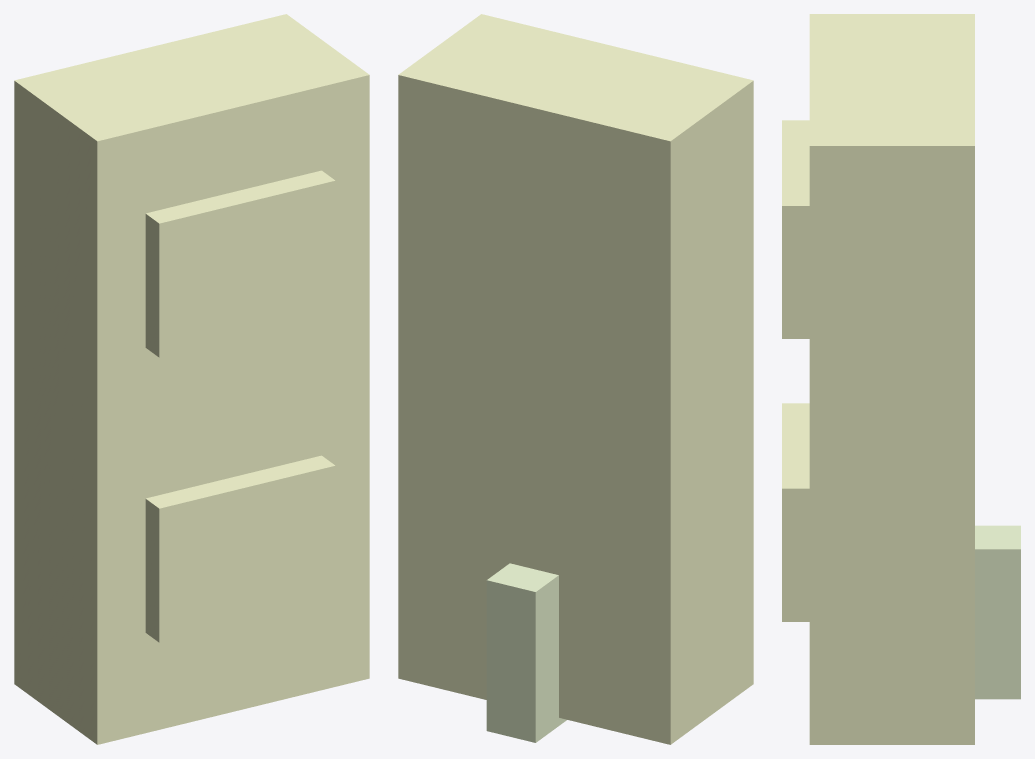
The model's file is signal_bicycle_compact_2_aspect.glb.
3 renders of one model, left to right at view 1: azimuth 30°, elevation 25°; view 2: azimuth 150°, elevation 25°; view 3: azimuth 270°, elevation 25°, orthographic.
Parts seen in each view (by area): view 1: housing, display_bike_red, display_bike_green; view 2: housing, bracket; view 3: housing, bracket, display_bike_red, display_bike_green.
Part boxes in pixels (left/top/right/bottom): housing: left=14, top=14, right=369, bottom=744; display_bike_red: left=145, top=170, right=335, bottom=357; display_bike_green: left=145, top=455, right=335, bottom=642; housing: left=398, top=14, right=753, bottom=744; bracket: left=486, top=563, right=566, bottom=742; housing: left=809, top=14, right=974, bottom=744; bracket: left=975, top=525, right=1020, bottom=699; display_bike_red: left=782, top=120, right=809, bottom=338; display_bike_green: left=782, top=403, right=809, bottom=621.
Bounding box in the file's own units: 0.34 × 0.73 × 0.26.
